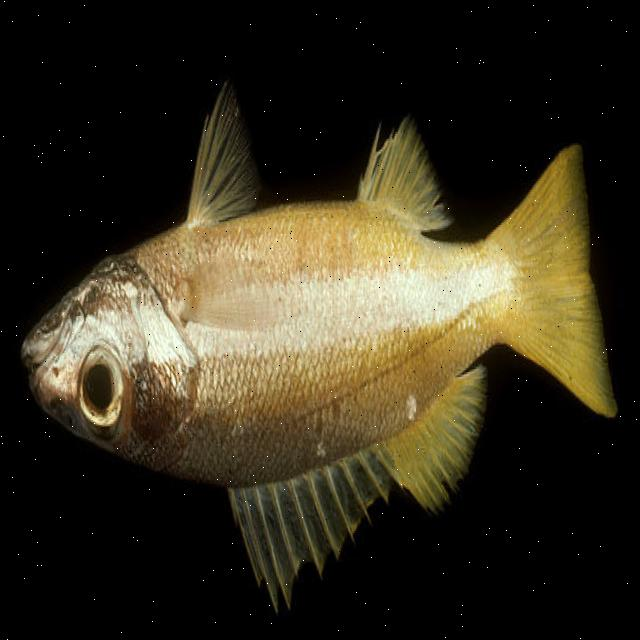ikan: (0, 35, 638, 640)
